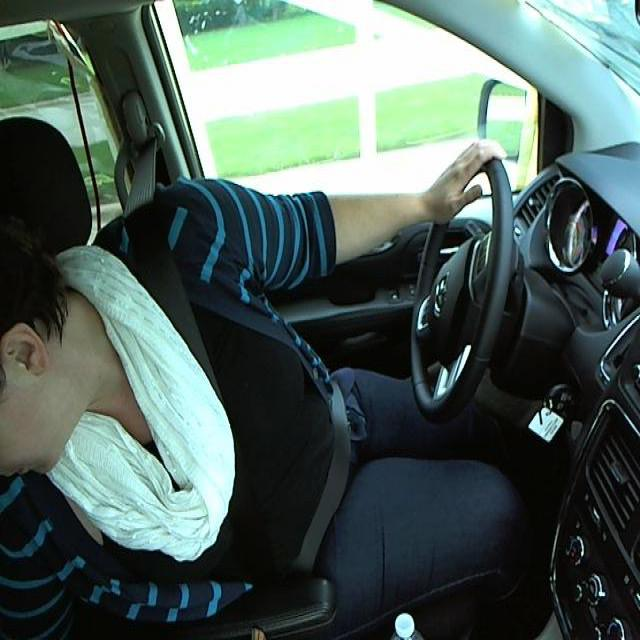seatbelt: (147, 246, 351, 566)
